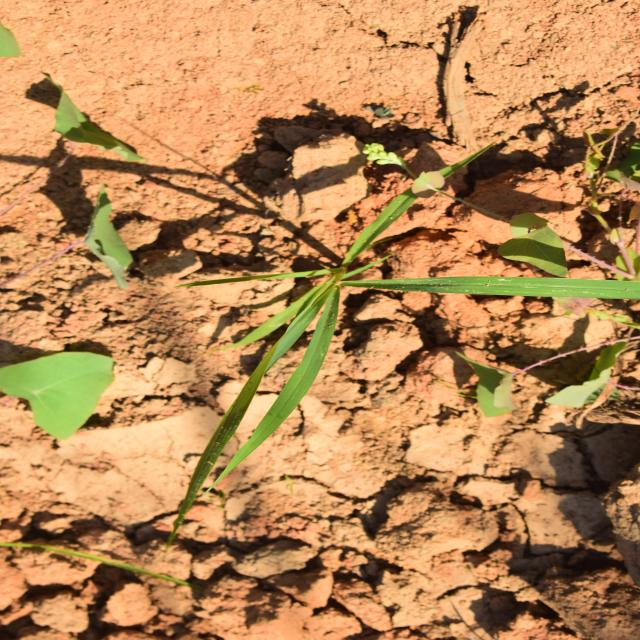green_foxtail: (115, 172, 408, 534)
